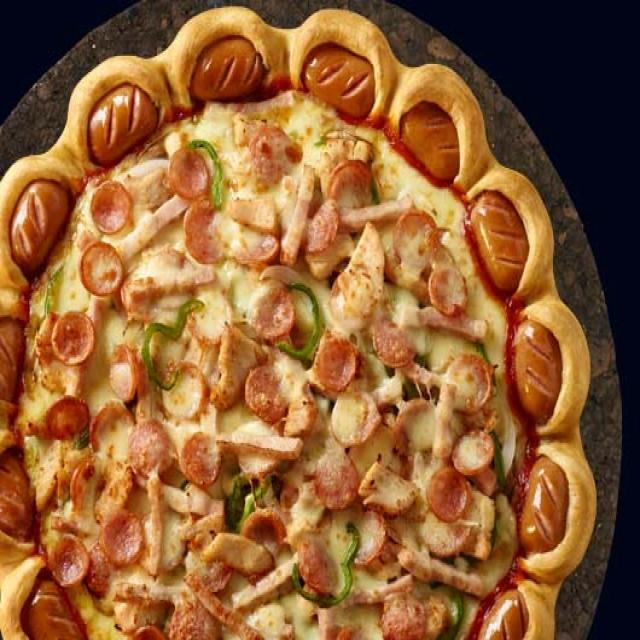Wet Waste: (0, 5, 598, 640)
